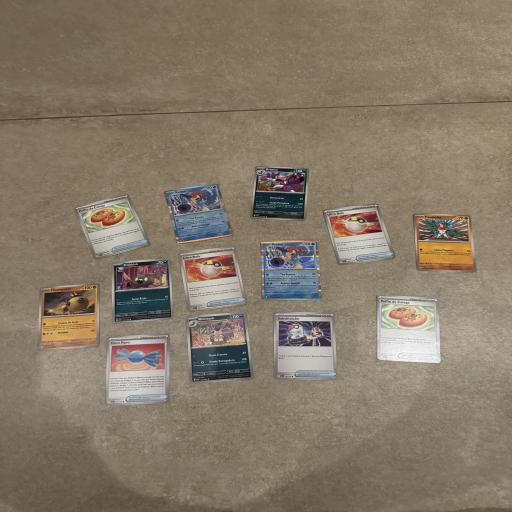card: (74, 186, 151, 267), (185, 311, 254, 384), (104, 333, 171, 405), (323, 202, 396, 267), (178, 245, 247, 313), (273, 311, 338, 381), (377, 294, 442, 363), (164, 182, 234, 245), (108, 258, 175, 323), (37, 283, 100, 351), (413, 213, 478, 272), (261, 240, 322, 300), (250, 165, 310, 221)
